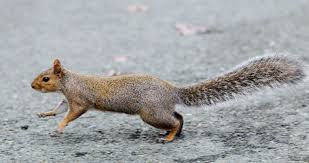squirrel: (31, 54, 303, 143)
